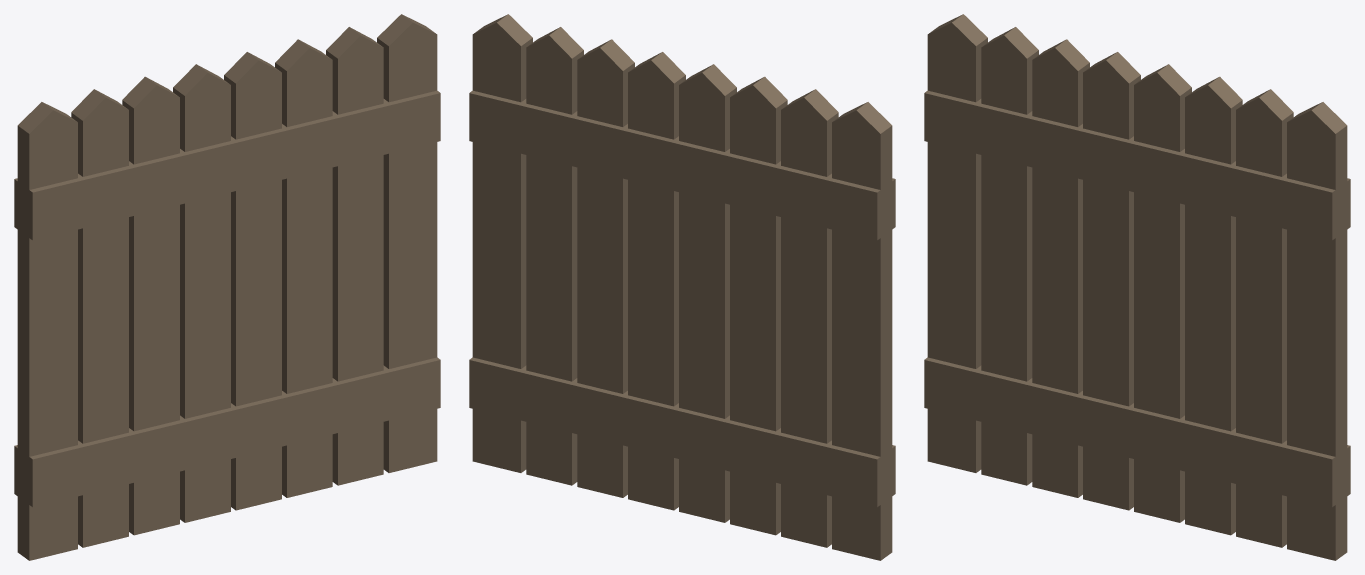
Rendered from PS_Fence.fbx.
3 renders of one model, left to right at view 1: azimuth 30°, elevation 25°; view 2: azimuth 150°, elevation 25°; view 3: azimuth 330°, elevation 25°, orthographic.
Visible parts, largest first — view 1: PS_Fence; view 2: PS_Fence; view 3: PS_Fence.
Boxes of the visible parts, x1=… form: PS_Fence: x1=14, y1=14, x2=440, y2=560; PS_Fence: x1=469, y1=14, x2=895, y2=560; PS_Fence: x1=924, y1=14, x2=1350, y2=560.
Size of the model in its own units: 2 by 2.08 by 0.1578.
